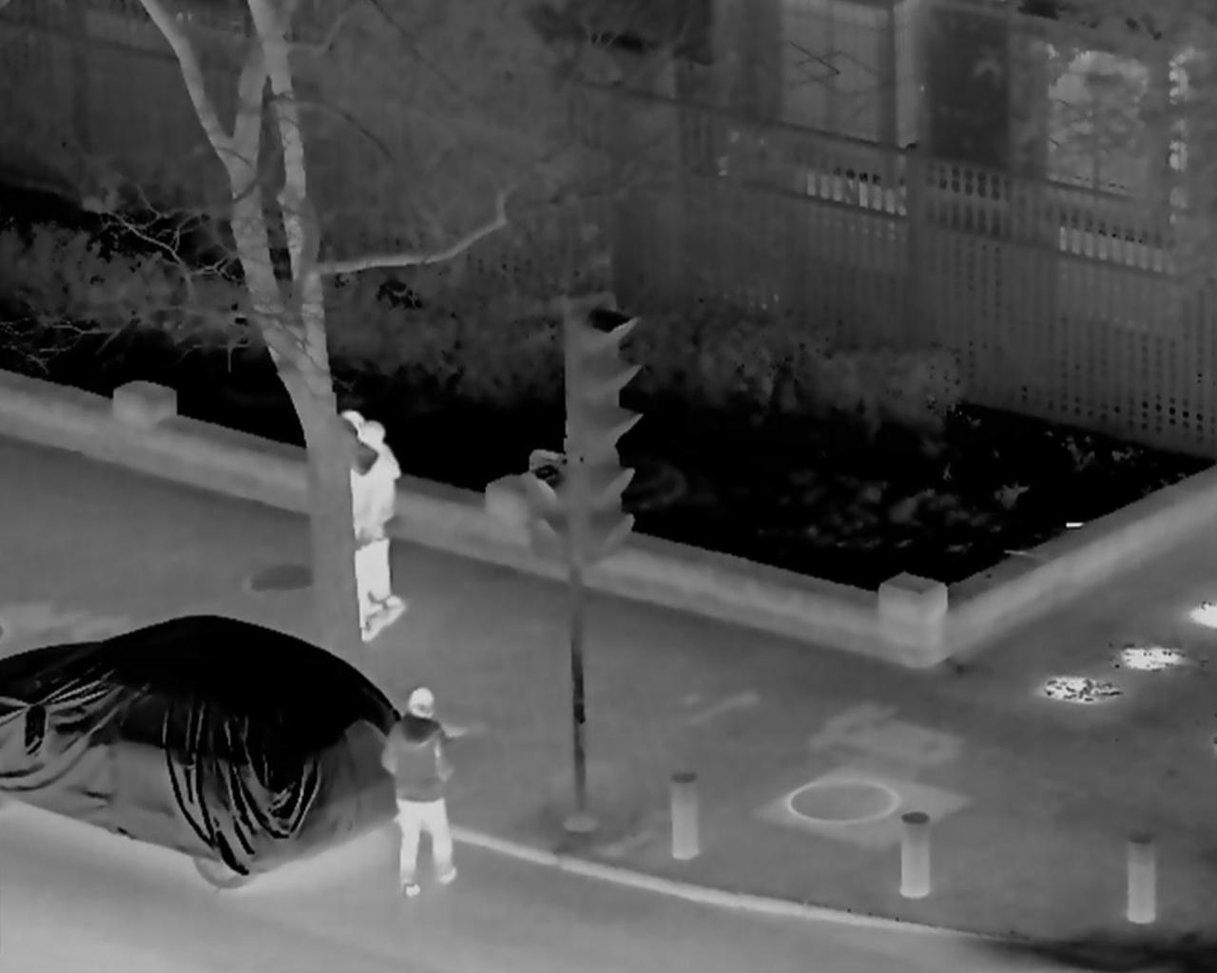person: (377, 686, 470, 901), (348, 423, 410, 630), (326, 414, 375, 639)
